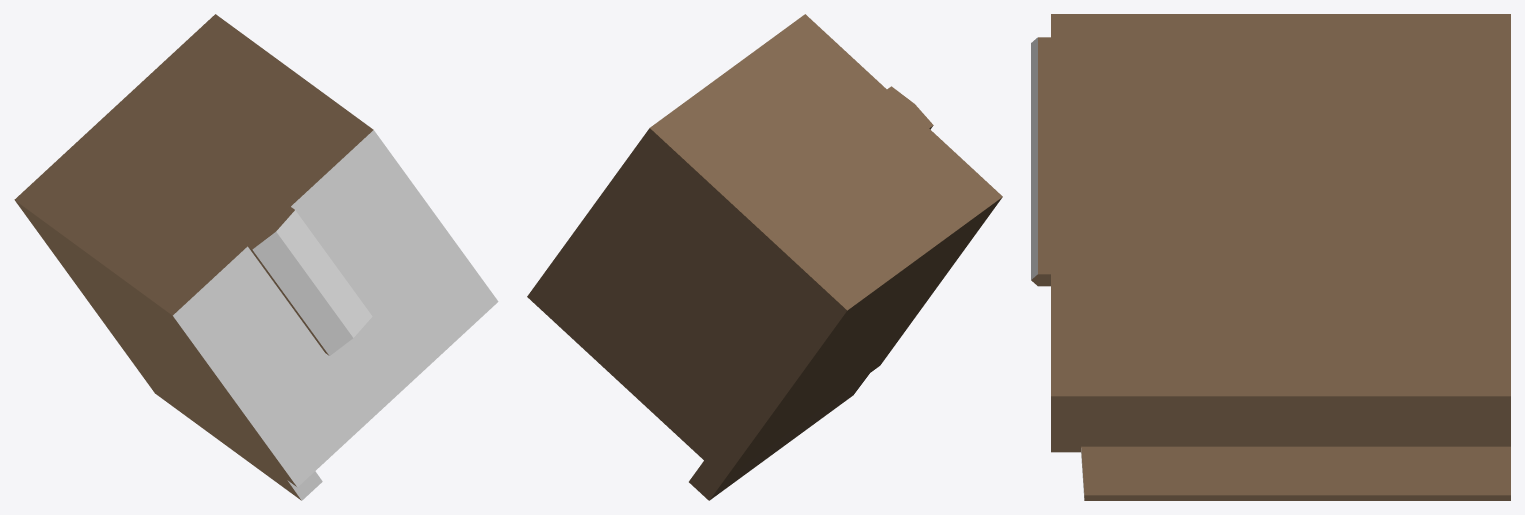
The picture shows the model from 3 angles, left to right: view 1: azimuth 30°, elevation 25°; view 2: azimuth 150°, elevation 25°; view 3: azimuth 270°, elevation 25°; orthographic projection. The views are drawn at different scales.
Parts seen in each view (by area): view 1: City_PC-31114; view 2: City_PC-31114; view 3: City_PC-31114.
Part boxes in pixels (box(x1,y1,x2,y2)): City_PC-31114: box(14, 14, 498, 500); City_PC-31114: box(527, 14, 1002, 500); City_PC-31114: box(1031, 14, 1510, 500).
Bounding box in the file's own units: 1787 × 1911 × 1569.
